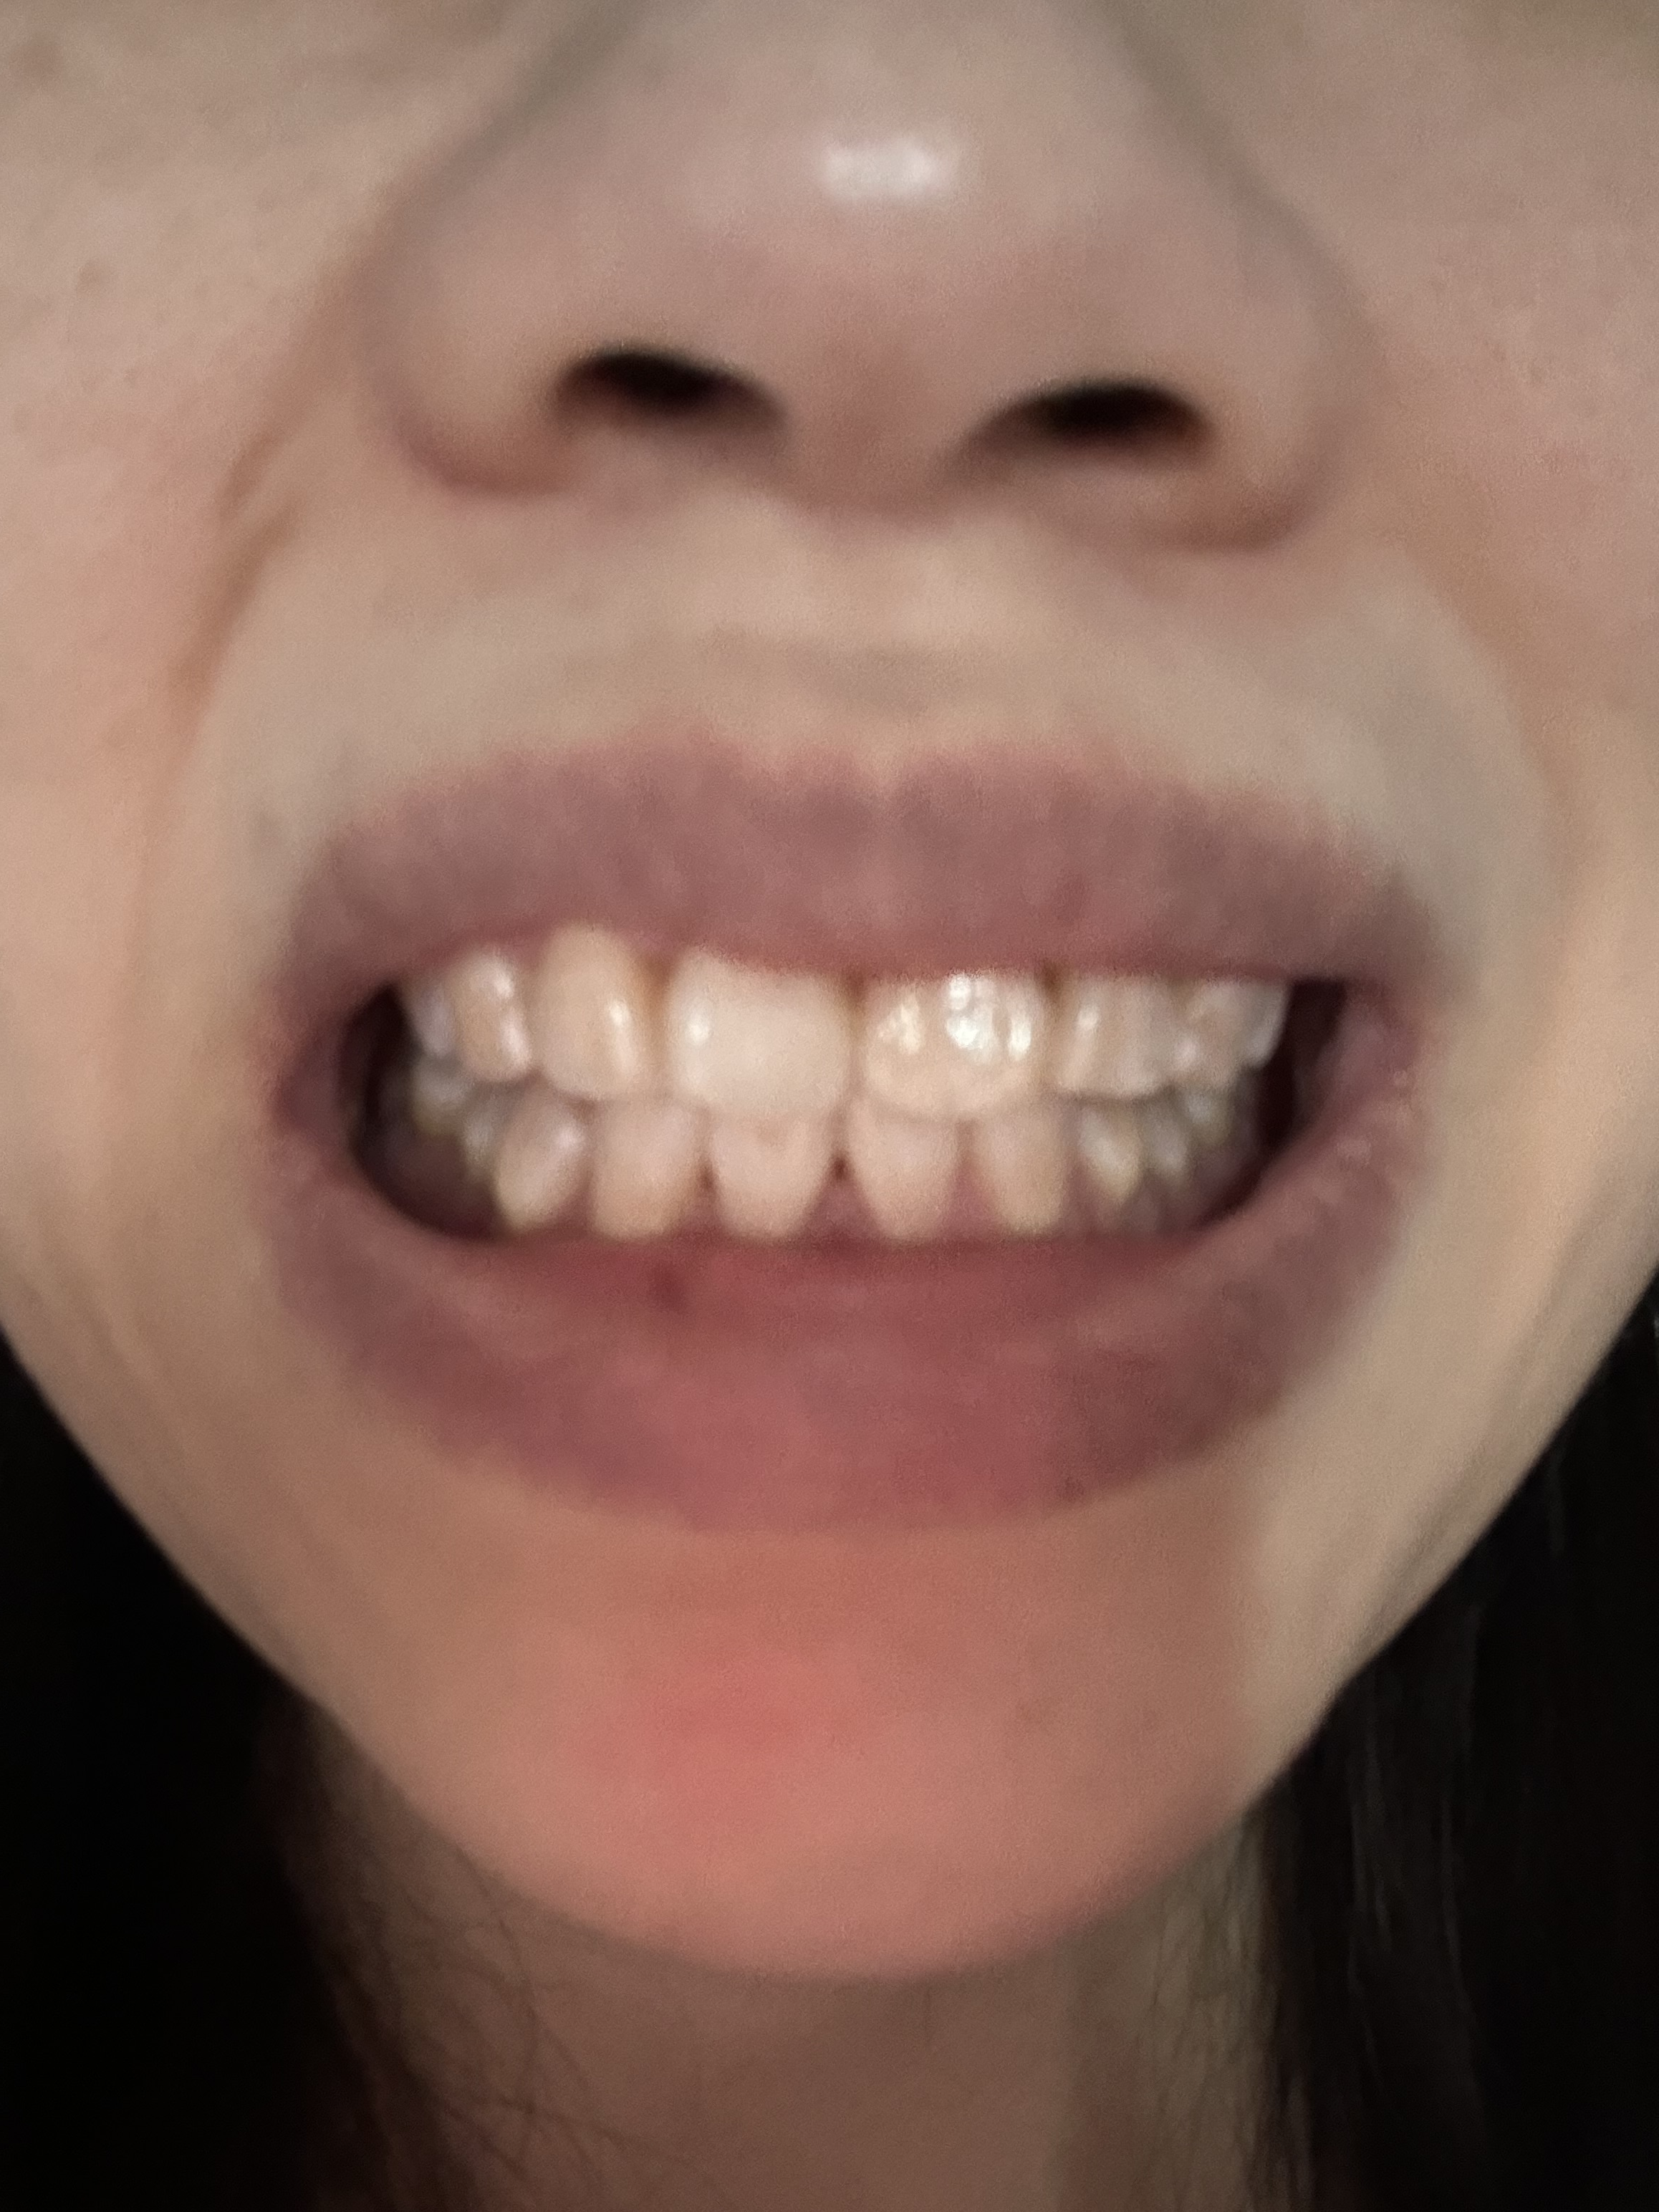teeth: (662, 946, 845, 1113), (863, 984, 1046, 1115), (532, 928, 648, 1094), (1056, 982, 1180, 1103), (706, 1116, 828, 1235), (972, 1104, 1075, 1230), (591, 1103, 692, 1230), (845, 1115, 950, 1228), (493, 1089, 575, 1214), (450, 951, 526, 1075), (1183, 979, 1258, 1082), (387, 963, 453, 1059), (1087, 1109, 1140, 1200), (460, 1087, 505, 1174), (411, 1062, 467, 1120), (1183, 1085, 1236, 1146), (1147, 1109, 1190, 1170)
